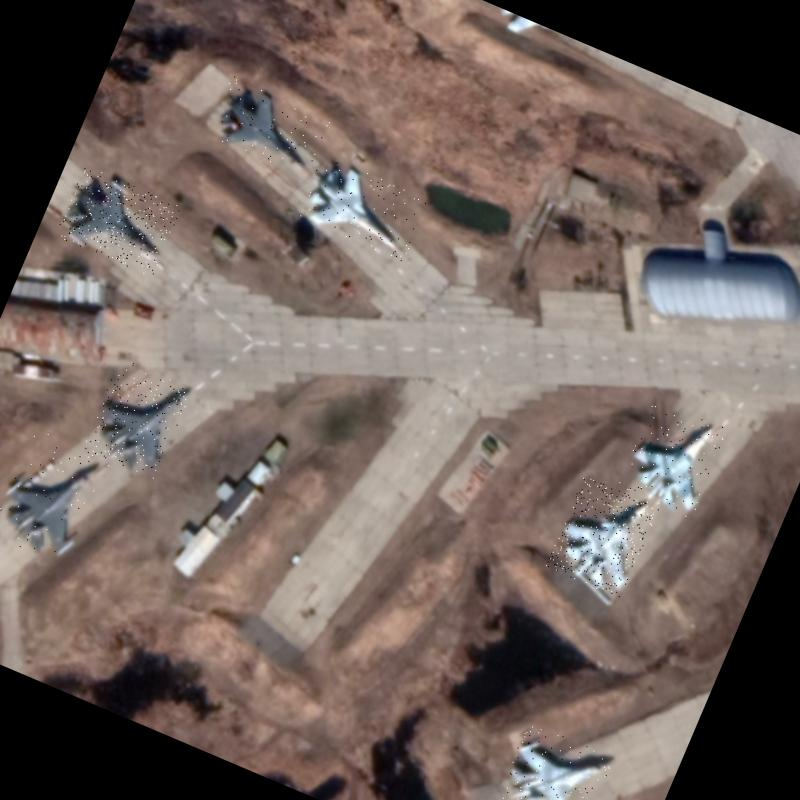A1: (0, 426, 112, 567), (295, 153, 431, 264), (55, 165, 183, 278), (82, 356, 194, 480), (617, 398, 729, 520), (206, 76, 334, 178), (491, 721, 615, 800)
A19: (545, 475, 660, 599)
